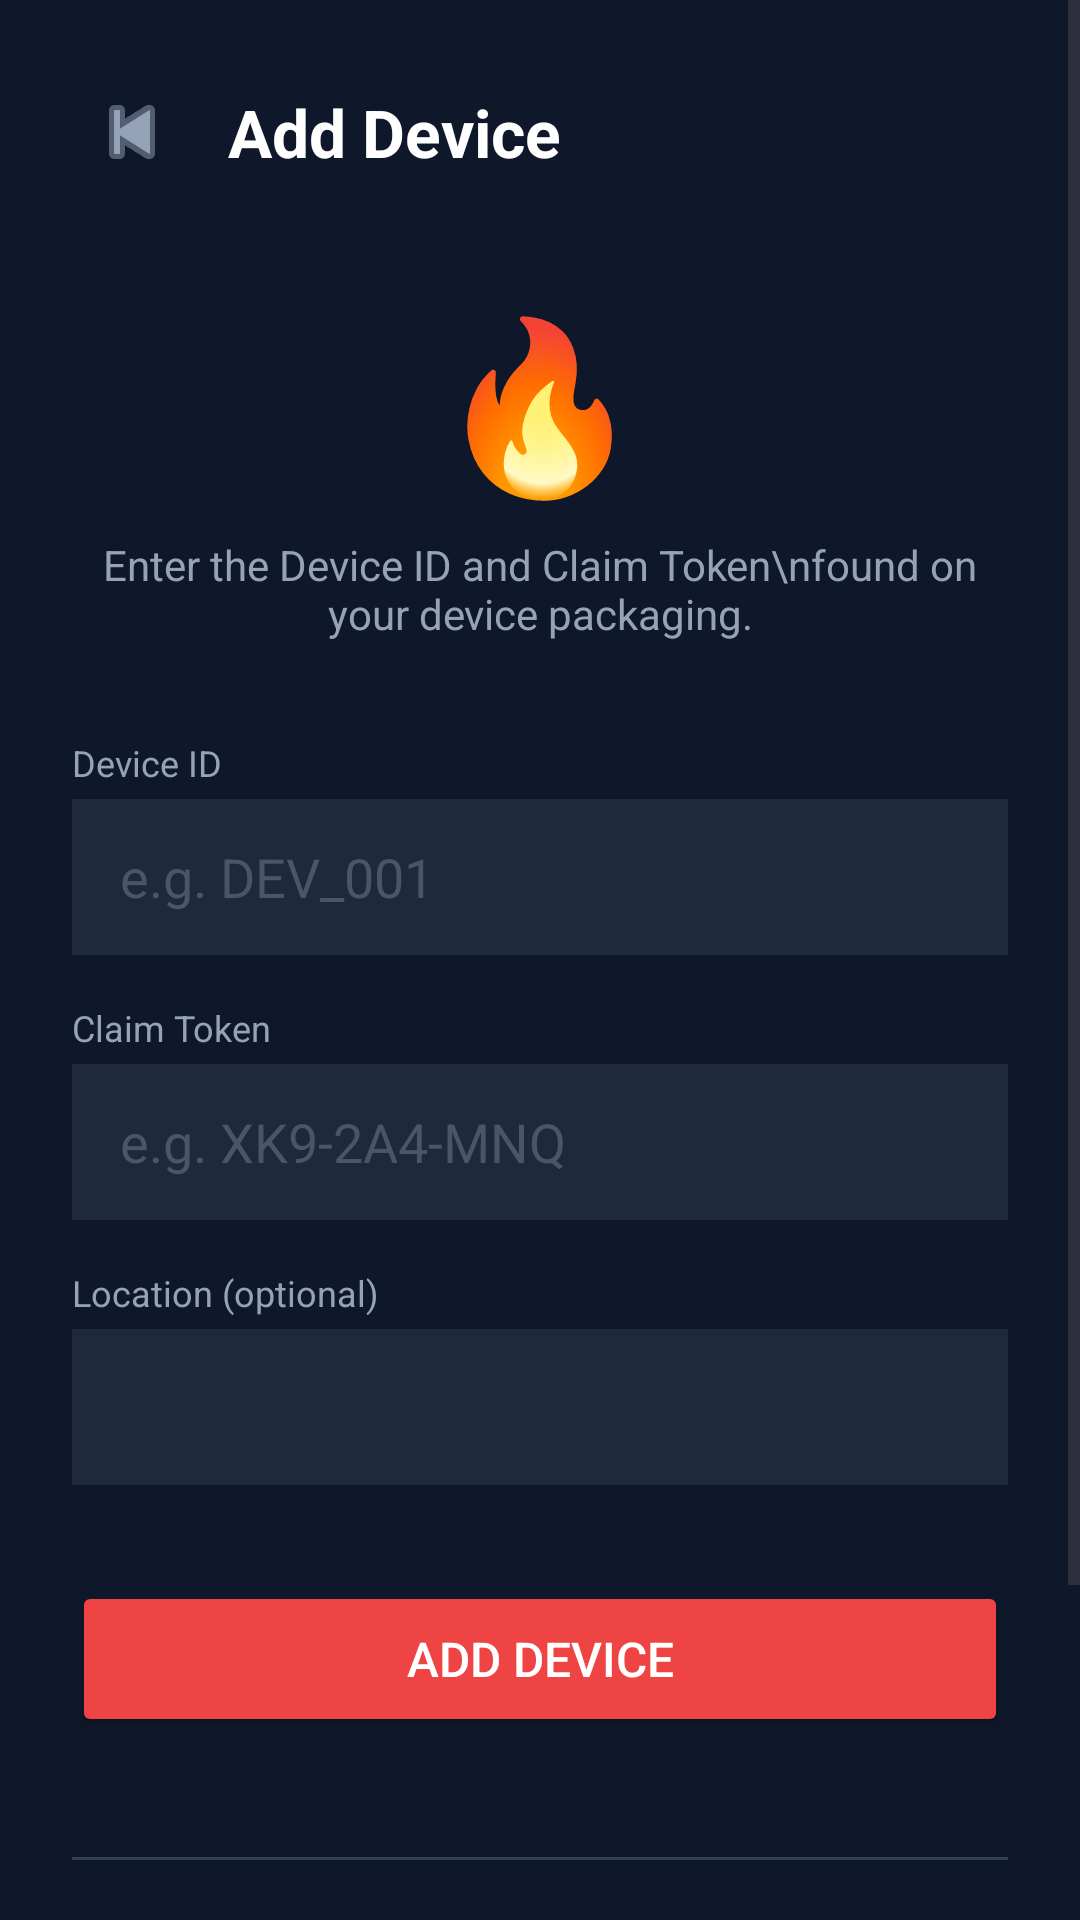

Where icons sit on this 1080px x 1920px app screen, as (x1, y1, x2, y2):
previous: (109, 105, 155, 159)
